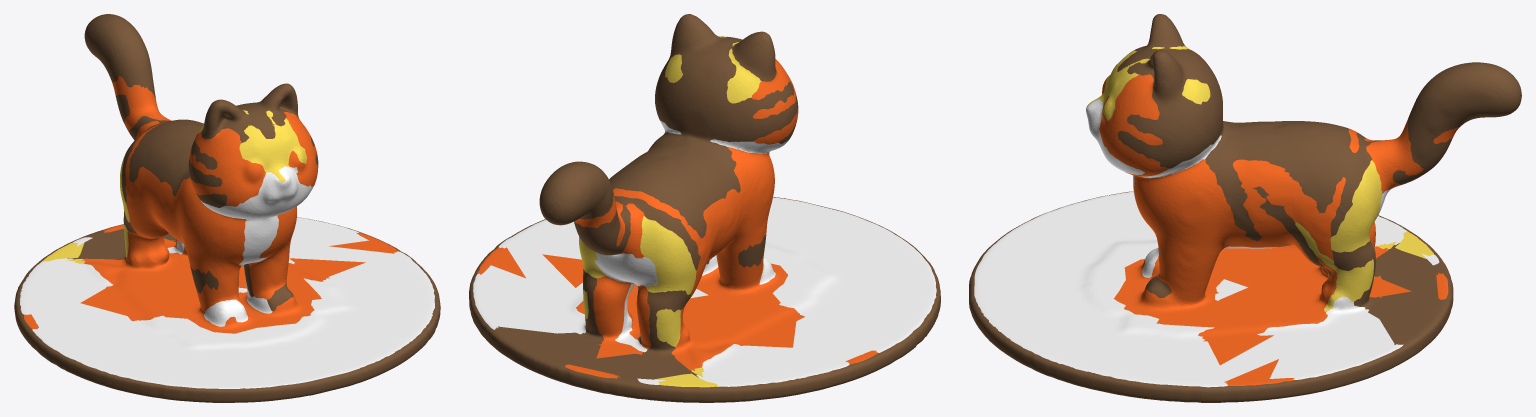
File: qd_cat_1.glb
The picture shows the model from 3 angles, left to right: view 1: azimuth 30°, elevation 25°; view 2: azimuth 150°, elevation 25°; view 3: azimuth 270°, elevation 25°; orthographic projection. The views are drawn at different scales.
Visible parts, largest first — view 1: part_3, part_2, part_1, part_4; view 2: part_1, part_3, part_2, part_4; view 3: part_1, part_3, part_2, part_4.
Boxes of the visible parts, box(x1,y1,x2,y2) form: part_3: box(20, 166, 434, 388); part_2: box(24, 76, 398, 333); part_1: box(14, 14, 440, 402); part_4: box(42, 110, 306, 263); part_1: box(469, 14, 940, 402); part_3: box(473, 120, 936, 386); part_2: box(477, 59, 877, 378); part_4: box(579, 36, 761, 387); part_1: box(969, 14, 1521, 402); part_3: box(974, 98, 1439, 387); part_2: box(1099, 74, 1460, 385); part_4: box(1087, 46, 1433, 311).
Size of the model in its own units: 2.22 by 1.37 by 2.52.
